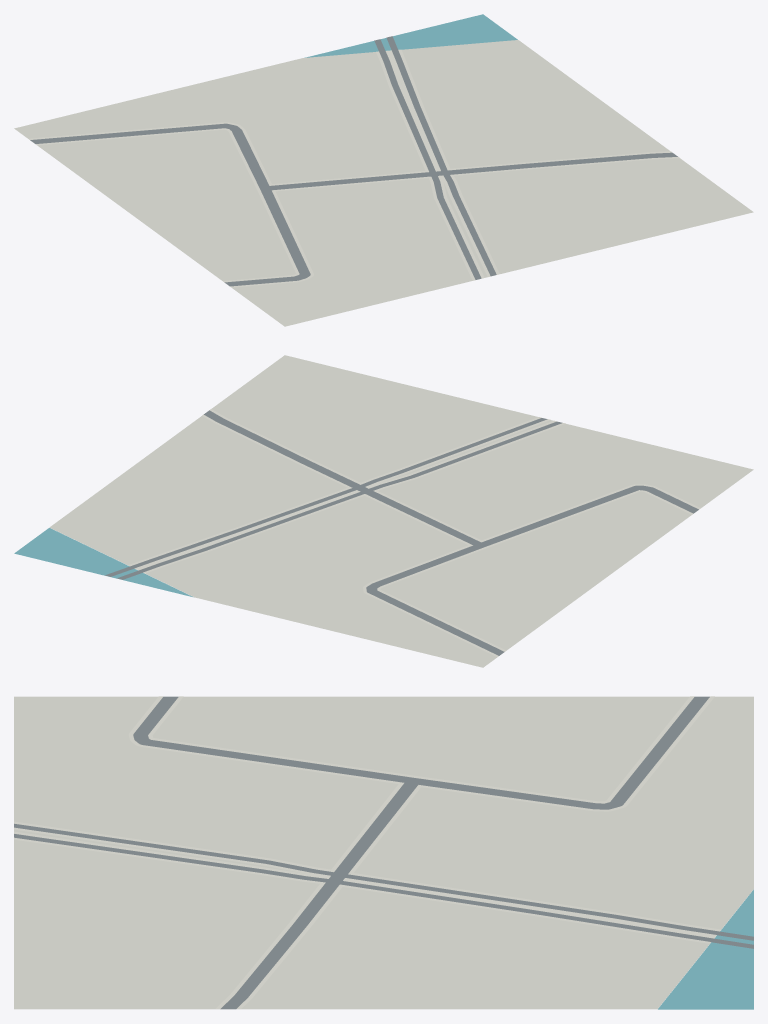
The picture shows the model from 3 angles, top to bottom: view 1: azimuth 30°, elevation 25°; view 2: azimuth 150°, elevation 25°; view 3: azimuth 270°, elevation 25°; orthographic projection. The views are drawn at different scales.
Parts seen in each view (by area): view 1: city; view 2: city; view 3: city.
Boxes of the visible parts, x1,y1,x2,y2 form: city: (14, 14, 753, 326); city: (14, 355, 753, 667); city: (14, 696, 753, 1009).
Size of the model in its own units: 500 by 0.4 by 500.
